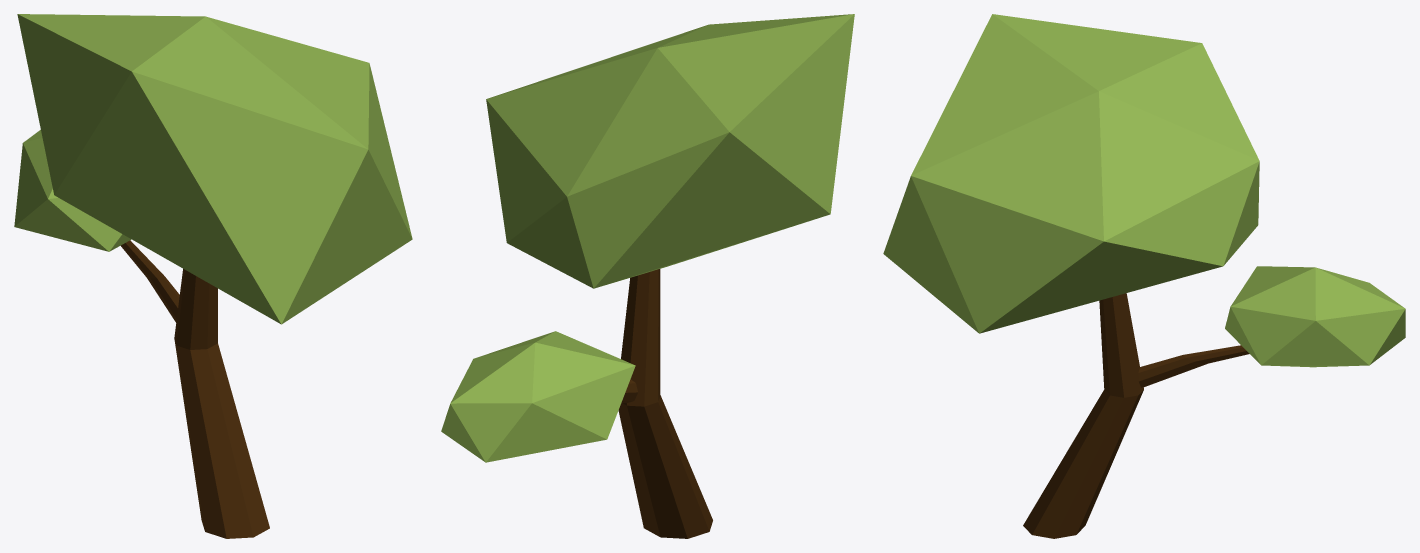
The model's file is tree005.fbx.
3 renders of one model, left to right at view 1: azimuth 30°, elevation 25°; view 2: azimuth 150°, elevation 25°; view 3: azimuth 270°, elevation 25°, orthographic. The views are drawn at different scales.
Parts seen in each view (by area): view 1: Cylinder.005; view 2: Cylinder.005; view 3: Cylinder.005.
Boxes of the visible parts, x1=… form: Cylinder.005: x1=14, y1=14, x2=412, y2=538; Cylinder.005: x1=441, y1=14, x2=854, y2=538; Cylinder.005: x1=883, y1=14, x2=1405, y2=538.
Size of the model in its own units: 839 by 1254 by 1314.
